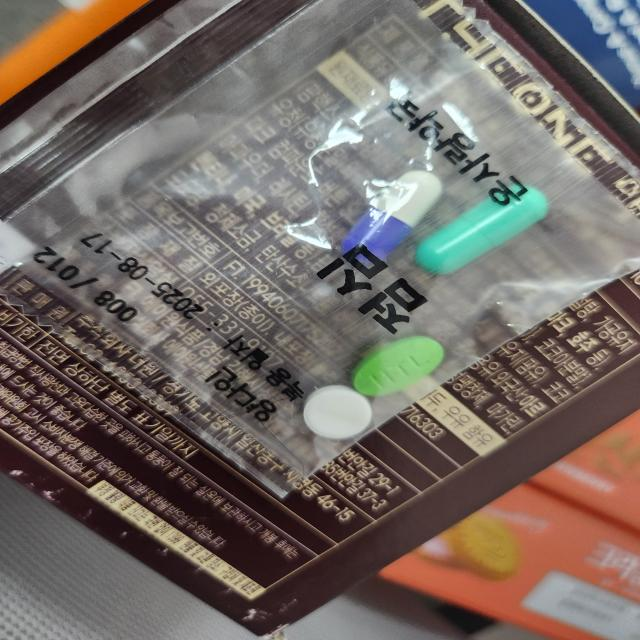러키펜정: (302, 386, 374, 444)
씨엠지세파클러캡슐: (338, 170, 444, 269)
에르도캡슐: (413, 179, 551, 279)
휴티렌정: (350, 336, 447, 400)
